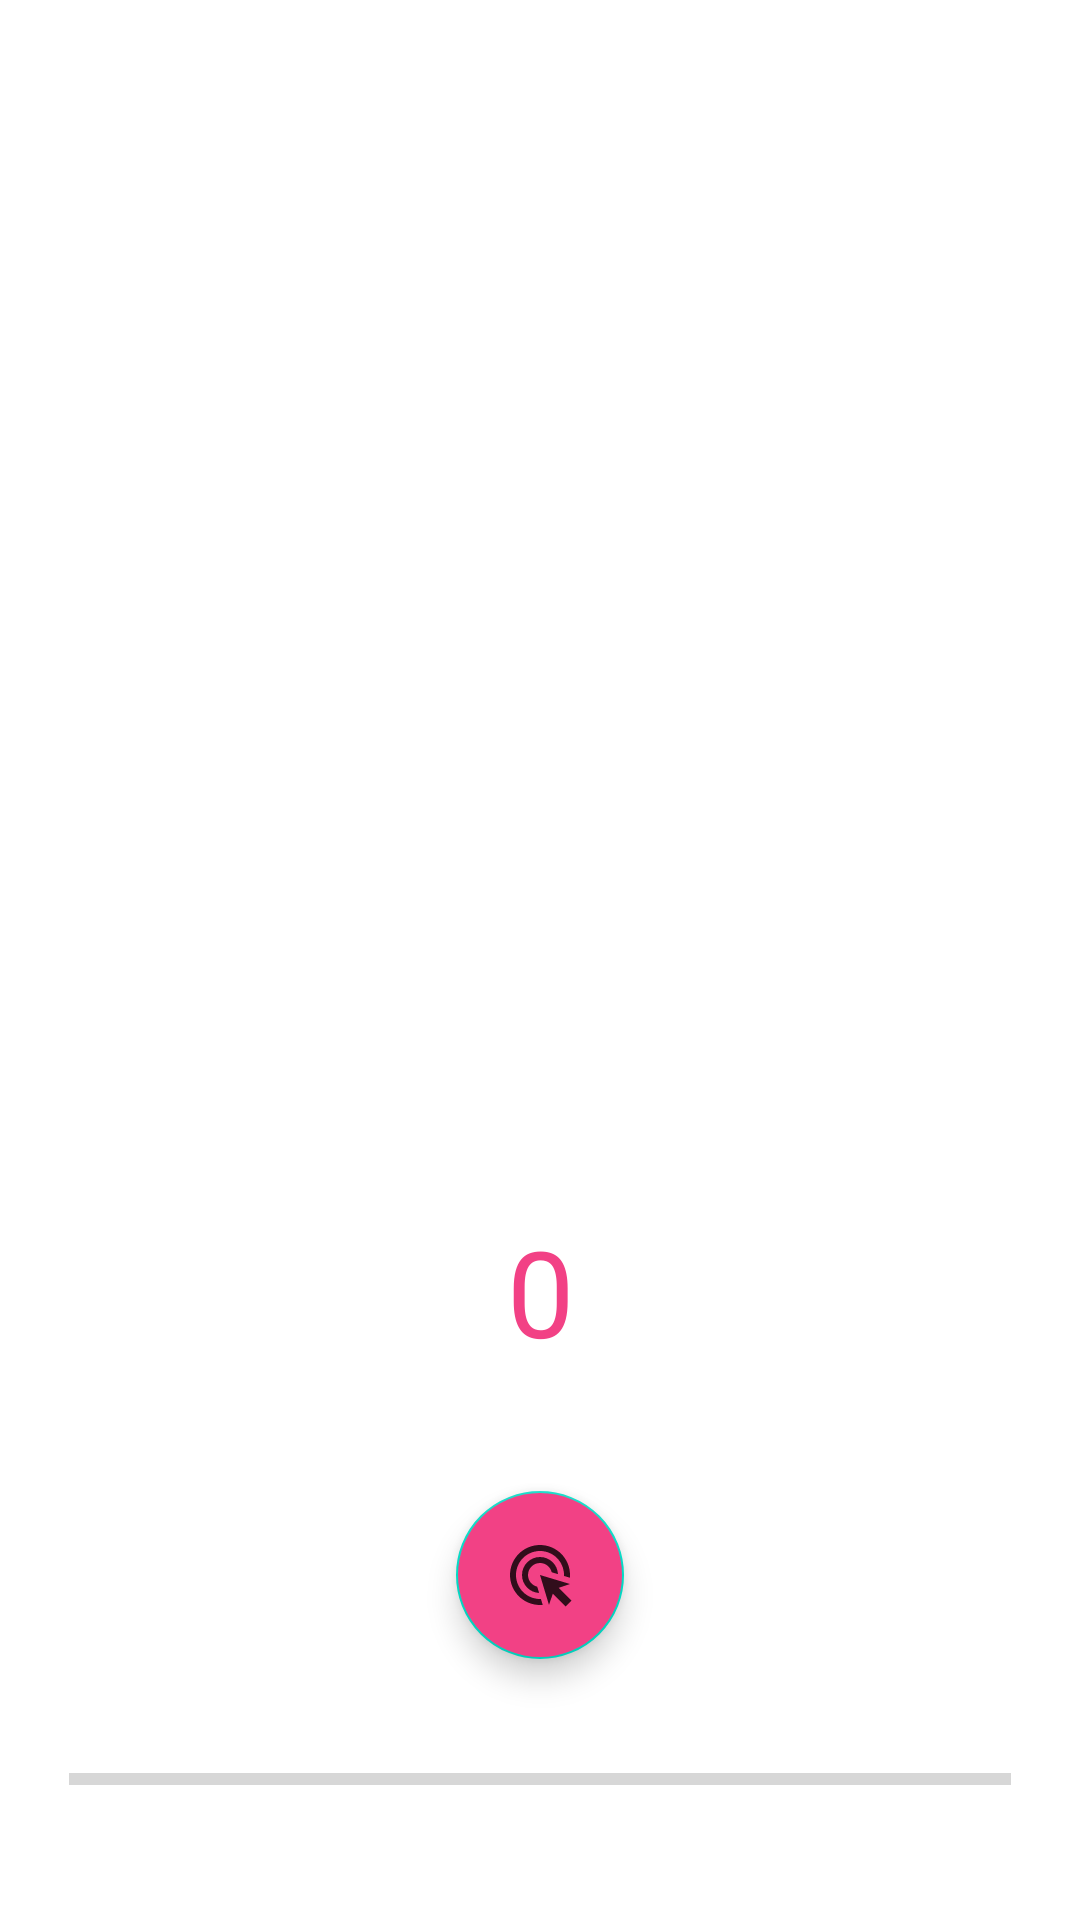

Where icons sit on this 1080*1920 app screen, as (x1, y1, x2, y2):
click: (456, 1491, 624, 1659)
